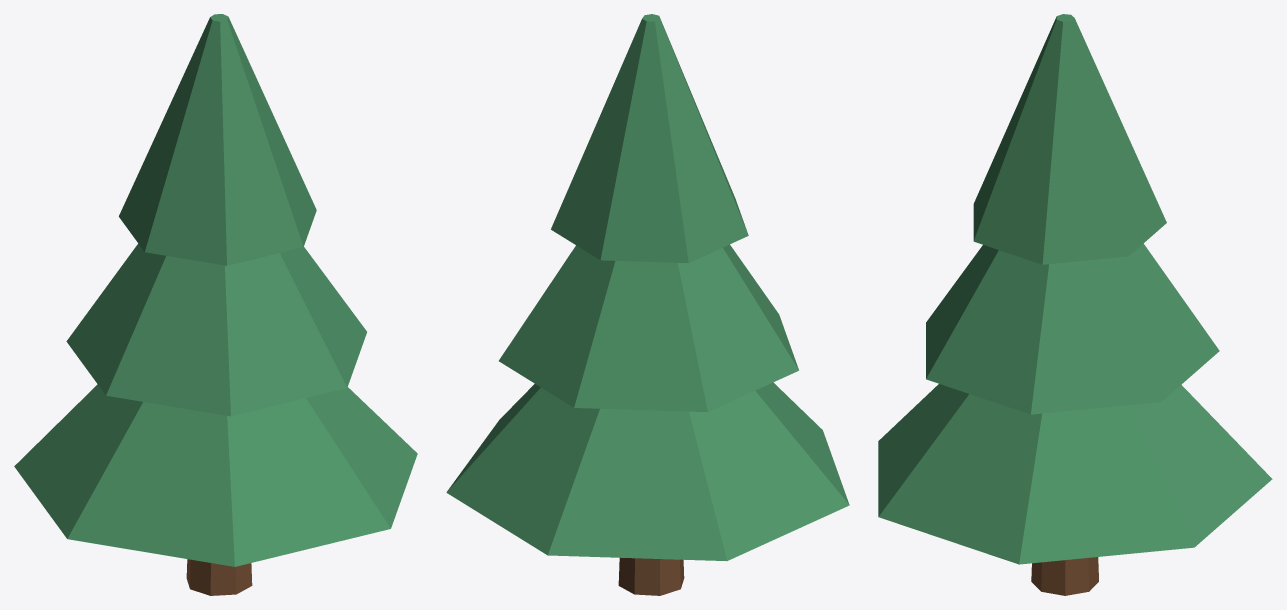
File: tree_pine.glb
3 renders of one model, left to right at view 1: azimuth 30°, elevation 25°; view 2: azimuth 150°, elevation 25°; view 3: azimuth 270°, elevation 25°, orthographic.
Visible parts, largest first — view 1: Needles, Trunk-col; view 2: Needles, Trunk-col; view 3: Needles, Trunk-col.
Boxes of the visible parts, bbox=[...] form: Needles: bbox=[14, 14, 417, 566]; Trunk-col: bbox=[186, 559, 252, 595]; Needles: bbox=[446, 14, 849, 561]; Trunk-col: bbox=[618, 557, 684, 595]; Needles: bbox=[878, 14, 1272, 564]; Trunk-col: bbox=[1031, 557, 1098, 595].
Bounding box in the file's own units: 2.14 × 3.3 × 2.09.
